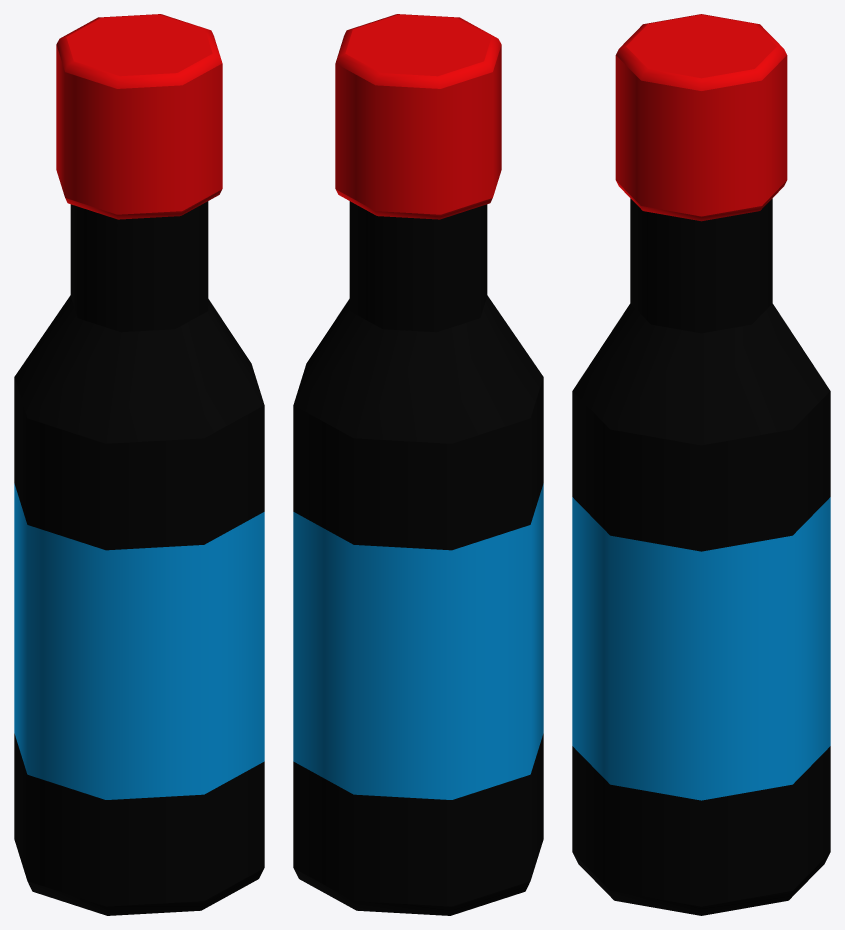
The model's file is Fridgerer_Sauces.glb.
3 renders of one model, left to right at view 1: azimuth 30°, elevation 25°; view 2: azimuth 150°, elevation 25°; view 3: azimuth 270°, elevation 25°, orthographic.
Parts seen in each view (by area): view 1: Sauces; view 2: Sauces; view 3: Sauces.
Boxes of the visible parts, x1,y1,x2,y2 form: Sauces: [14, 14, 264, 915]; Sauces: [293, 14, 543, 915]; Sauces: [572, 14, 830, 915].
Size of the model in its own units: 0.0683 by 0.24 by 0.0683.
